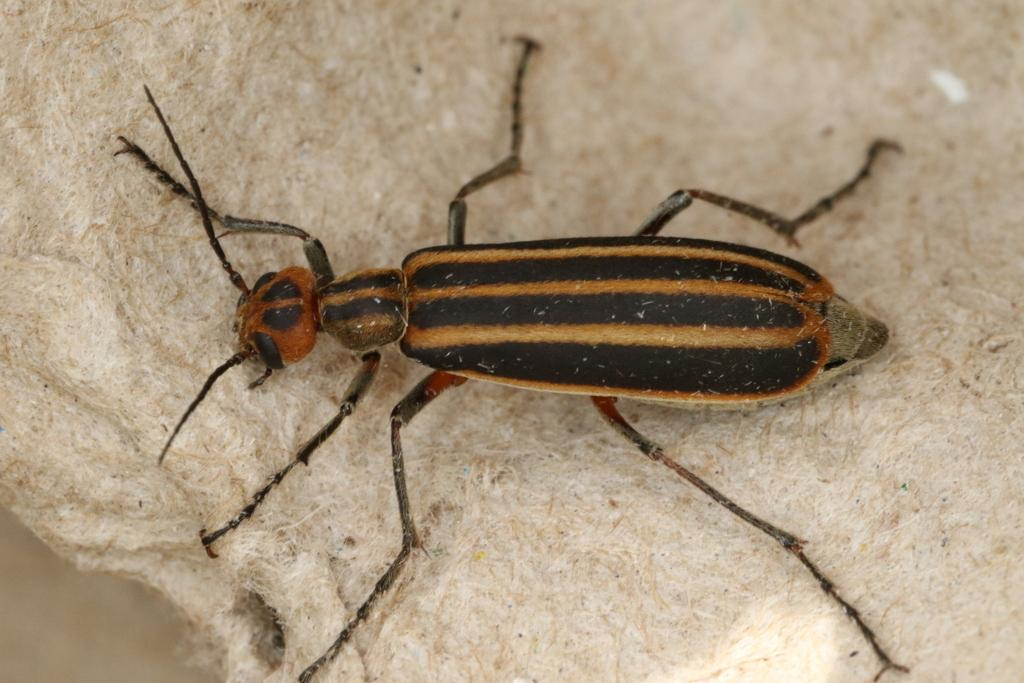blister_beetle: (58, 0, 1018, 683)
